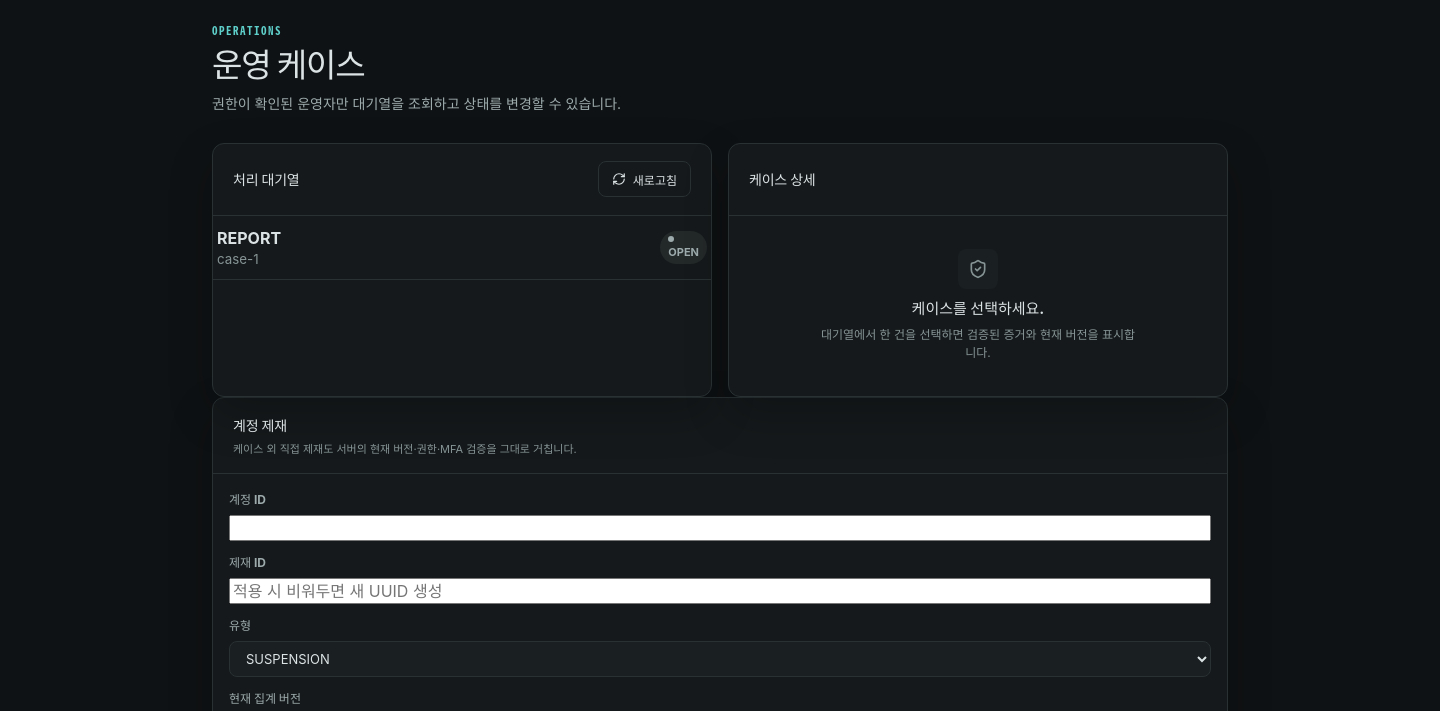
Scenario: OperatorCaseWorkspace › loads only the active queue, selects a case, and uses its exact version for a command
Click the button "REPORT case-1 OPEN".
click(249, 238)  # box [213,216,711,280]
(page scrolled)
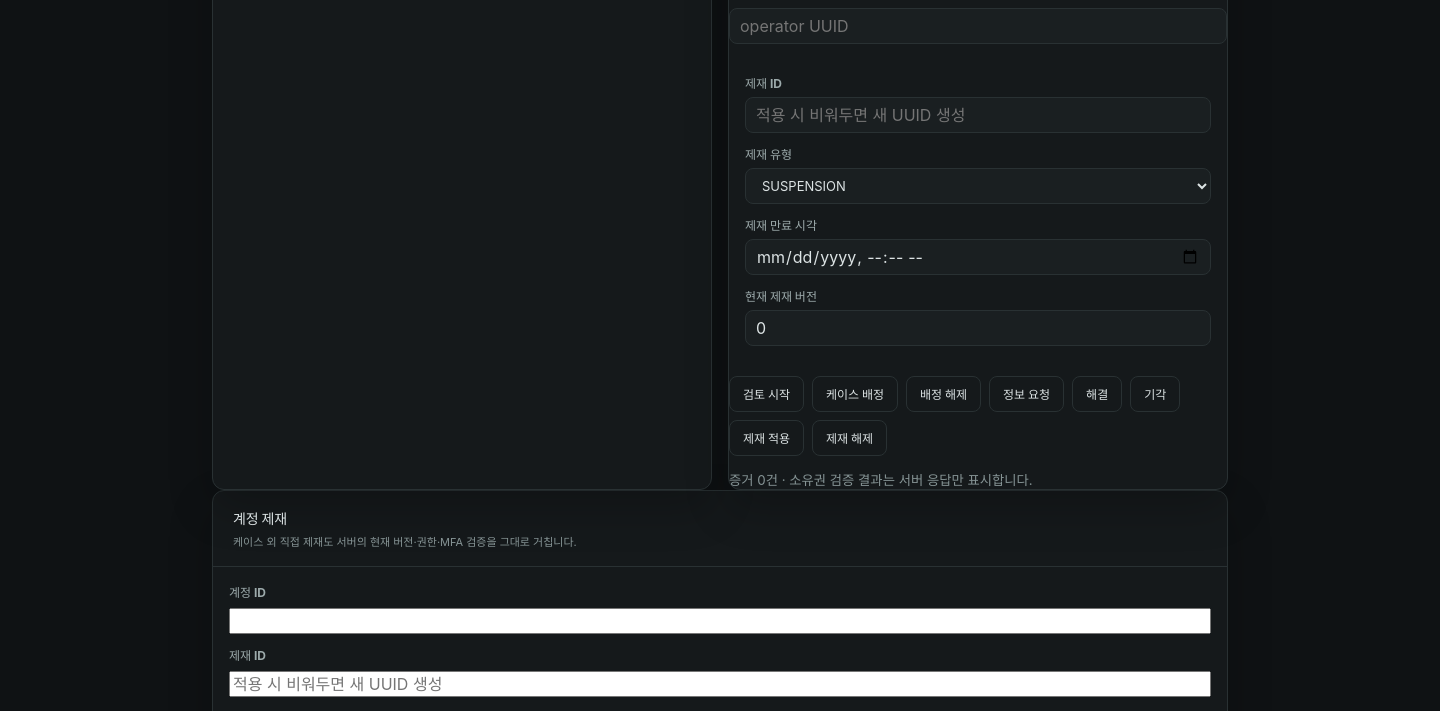
Click the button "검토 시작".
click(766, 394)  # box [729,376,804,412]
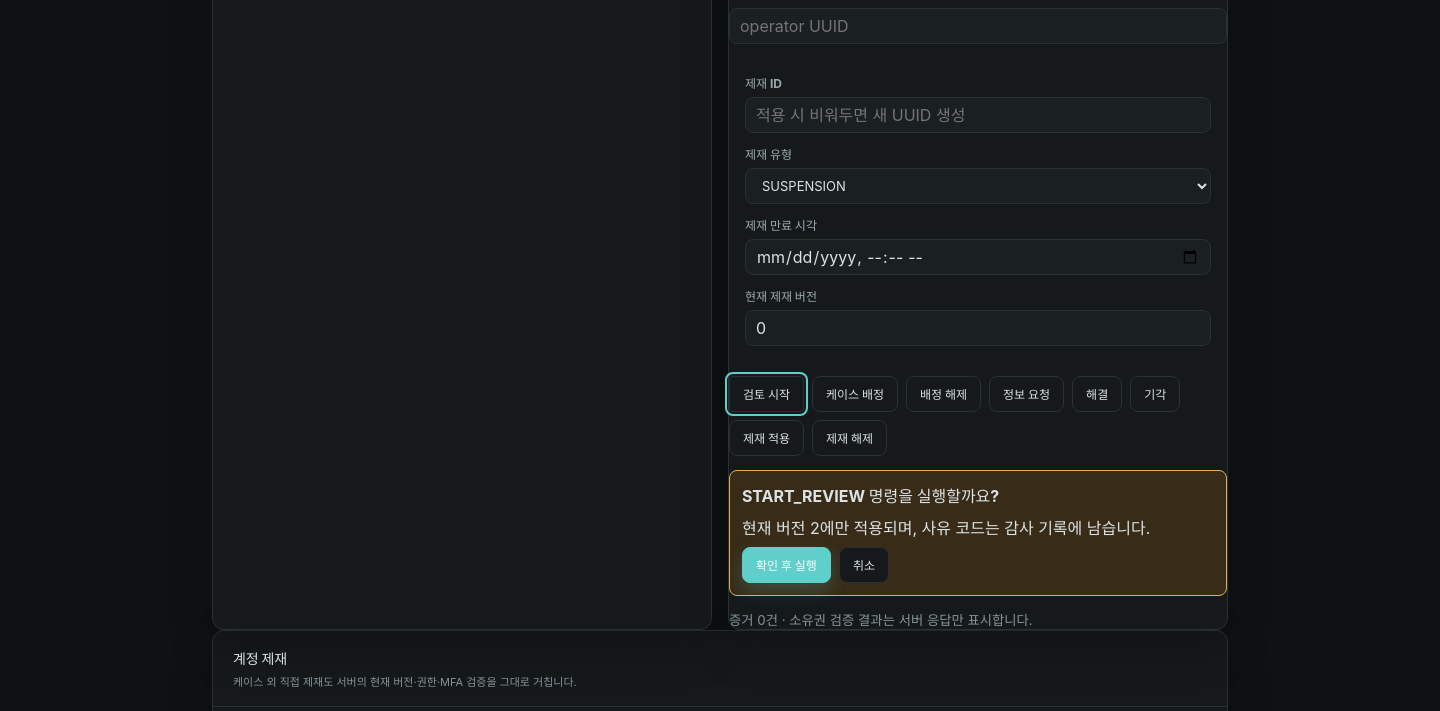
expect the dialog named "운영 명령 확인" is shown: met, box [729,470,1227,596]
Click the button "확인 후 실행".
click(786, 565)  # box [742,547,831,583]
(page scrolled)
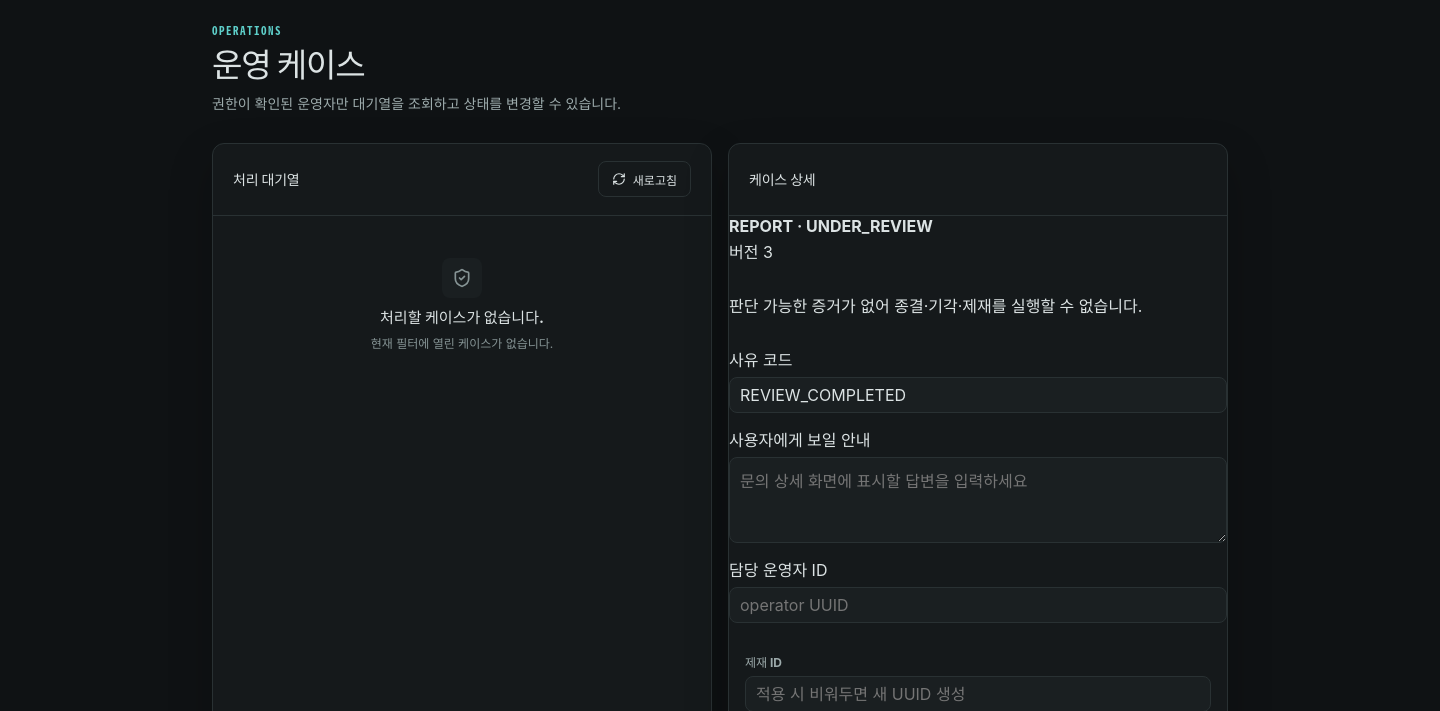
expect the text "REPORT · UNDER_REVIEW" is shown: met, box [729,216,933,236]
